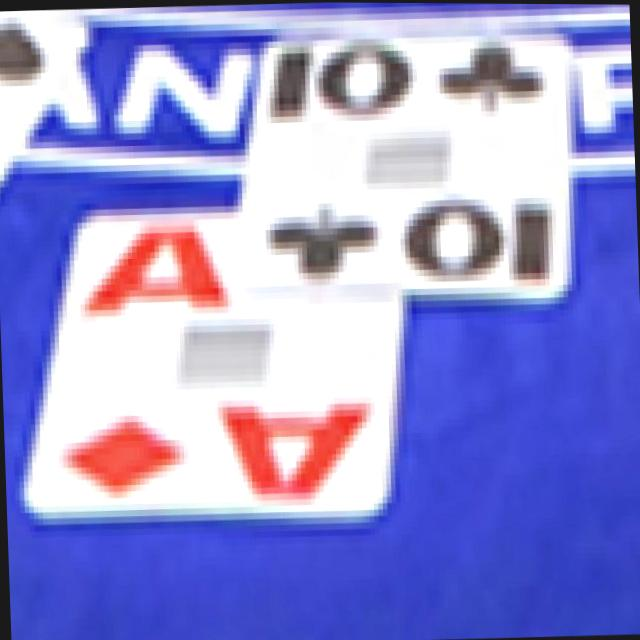Card-10: (241, 37, 567, 295)
Card-A: (27, 216, 399, 510)
